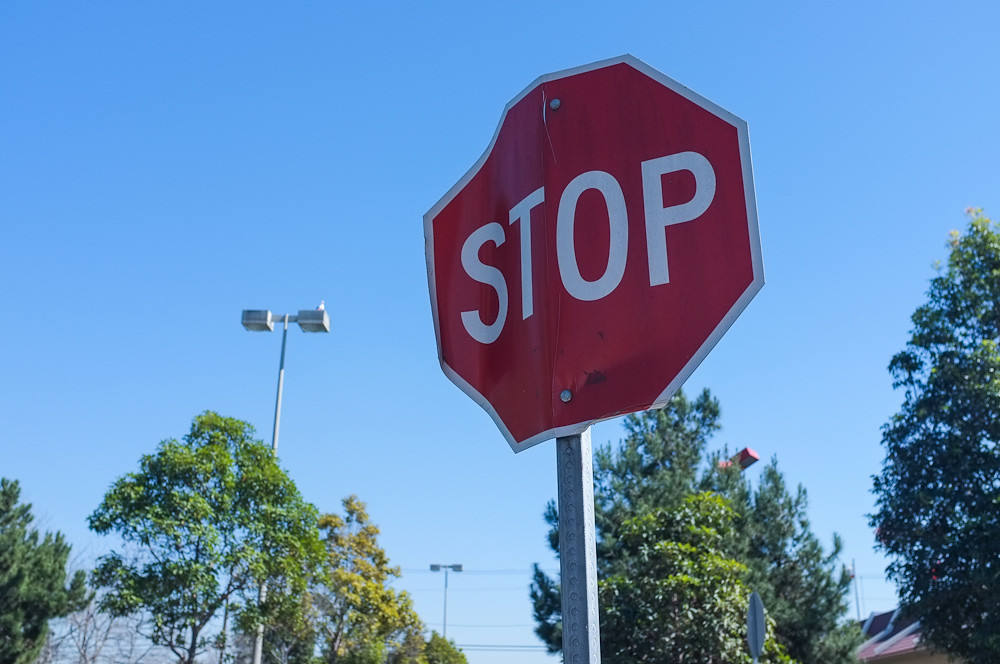stop: (430, 57, 761, 454), (433, 145, 757, 457), (427, 57, 763, 352), (432, 60, 640, 462)
